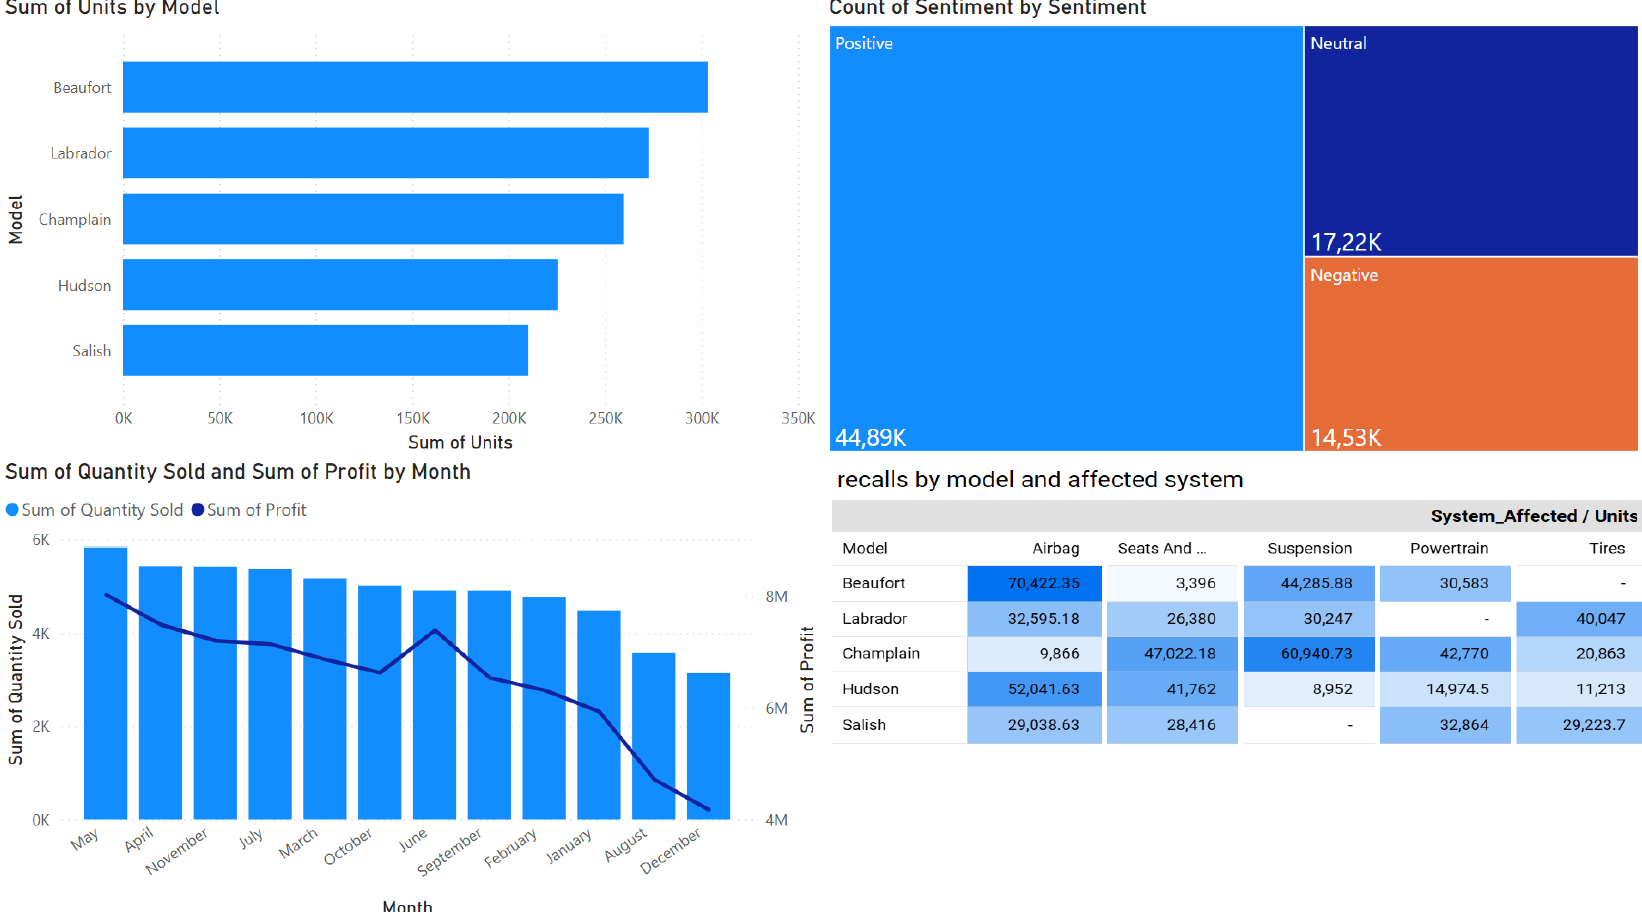

This screenshot's page, from the dashboard's own definition file:
{"tool":"powerbi","page":{"name":"Service","canvas":[1280,720],"ordinal":1},"visuals":[{"type":"barChart","fields":{"Category":["AU_Car_Recall.Model"],"Y":["Sum(AU_Car_Recall.Units)"]},"box":[0,0,640,360],"z":0},{"type":"treemap","fields":{"Values":["CountNonNull(AU_Sentiment.Sentiment)"],"Group":["AU_Sentiment.Sentiment"]},"box":[640,0,640,360],"z":1000},{"type":"lineStackedColumnComboChart","fields":{"Y":["Sum(AU_Sales_By_Models.Quantity Sold)"],"Category":["AU_Sales_By_Models.Month"],"Y2":["Sum(AU_Sales_By_Models.Profit)"]},"box":[0,360,640,360],"z":2000},{"type":"pivotTable","fields":{"Columns":["AU_Car_Recall.Model"],"Rows":["AU_Car_Recall.System_Affected"],"Values":["Sum(AU_Car_Recall.Units)"]},"box":[728,376,520,328],"z":3000}]}

Visuals, with their boxes in screenshot pixels (x1, y1, x2, y2), scaled from the page's 1280x720 canvas onto the 1642x912 screenshot:
barChart - AU_Car_Recall.Model x Sum(AU_Car_Recall.Units): box(0, 0, 821, 456)
treemap - CountNonNull(AU_Sentiment.Sentiment) x AU_Sentiment.Sentiment: box(821, 0, 1641, 456)
lineStackedColumnComboChart - Sum(AU_Sales_By_Models.Quantity Sold) x AU_Sales_By_Models.Month: box(0, 456, 821, 911)
pivotTable - AU_Car_Recall.Model x AU_Car_Recall.System_Affected: box(934, 476, 1601, 892)
